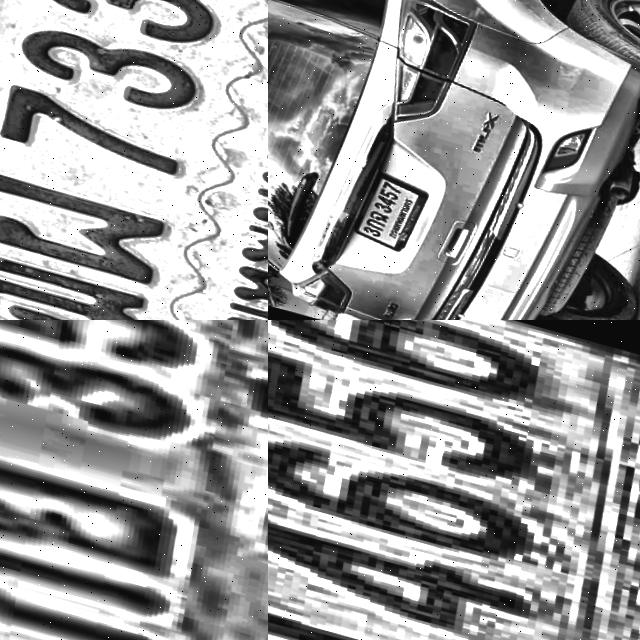license-plate: (268, 320, 640, 640), (0, 0, 268, 320), (0, 320, 268, 640), (334, 165, 428, 256)
